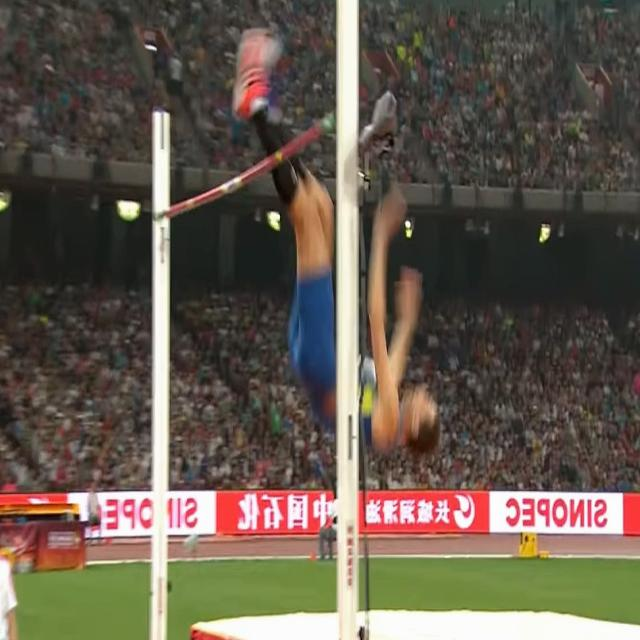land: (232, 22, 439, 450)
